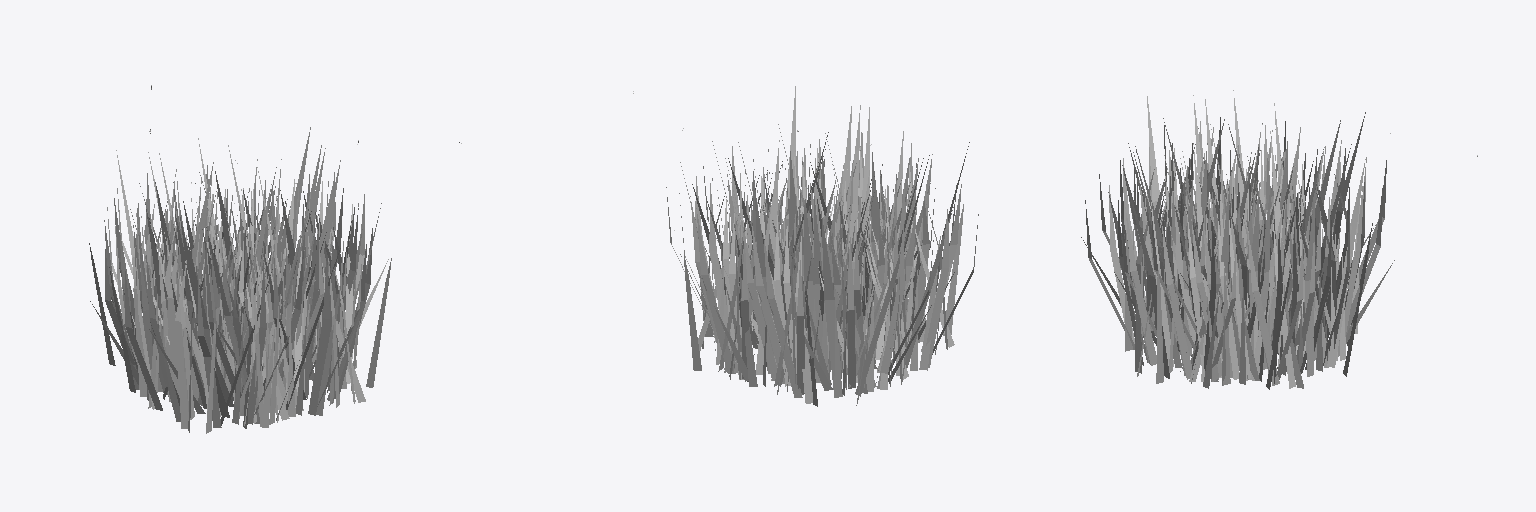
File: GrassCHICO.obj
The picture shows the model from 3 angles: view 1: azimuth 30°, elevation 25°; view 2: azimuth 150°, elevation 25°; view 3: azimuth 270°, elevation 25°; orthographic projection.
Parts seen in each view (by area): view 1: Grass2, Grass2186_Grass2208, Grass2084_Grass2106, Grass2008, Grass2055_Grass2089, Grass2029, Grass2151_Grass2173, Grass, Grass2178_Grass2200, Grass2025, Grass2152_Grass2174, Grass2107_Grass2129 (+2 smaller); view 2: Grass2, Grass2029, Grass2084_Grass2106, Grass2173_Grass2195, Grass2014, Grass2107_Grass2129, Grass, Grass2178_Grass2200, Grass2055_Grass2089, Grass2025, Grass2008, Grass2151_Grass2173 (+1 smaller); view 3: Grass2, Grass2107_Grass2129, Grass2186_Grass2208, Grass2152_Grass2174, Grass2055_Grass2089, Grass2173_Grass2195, Grass2151_Grass2173, Grass2008, Grass, Grass2178_Grass2200, Grass2084_Grass2106, Grass2025 (+1 smaller).
Part boxes in pixels (x1,y1,x2,y2): Grass2: (114, 127, 372, 433); Grass2186_Grass2208: (217, 177, 366, 424); Grass2084_Grass2106: (109, 215, 237, 419); Grass2008: (206, 194, 340, 427); Grass2055_Grass2089: (257, 167, 391, 392); Grass2029: (89, 191, 216, 371); Grass2151_Grass2173: (247, 203, 381, 407); Grass: (104, 203, 246, 400); Grass2178_Grass2200: (90, 162, 246, 408); Grass2025: (184, 216, 307, 414); Grass2152_Grass2174: (239, 190, 388, 380); Grass2107_Grass2129: (173, 165, 285, 283); Grass2: (666, 106, 969, 406); Grass2029: (793, 155, 933, 405); Grass2084_Grass2106: (837, 131, 978, 384); Grass2173_Grass2195: (679, 183, 803, 381); Grass2014: (727, 196, 847, 383); Grass2107_Grass2129: (680, 162, 818, 379); Grass: (790, 172, 924, 389); Grass2178_Grass2200: (806, 184, 940, 389); Grass2055_Grass2089: (703, 146, 835, 263); Grass2025: (817, 105, 935, 319); Grass2008: (785, 152, 917, 321); Grass2151_Grass2173: (765, 86, 882, 246); Grass2: (1099, 95, 1394, 388); Grass2107_Grass2129: (1266, 131, 1382, 376); Grass2186_Grass2208: (1085, 171, 1193, 368); Grass2152_Grass2174: (1189, 144, 1305, 389); Grass2055_Grass2089: (1114, 153, 1264, 383); Grass2173_Grass2195: (1235, 144, 1351, 368); Grass2151_Grass2173: (1118, 176, 1249, 383); Grass2008: (1081, 119, 1233, 351); Grass: (1233, 90, 1345, 263); Grass2178_Grass2200: (1180, 141, 1289, 269); Grass2084_Grass2106: (1163, 117, 1275, 247); Grass2025: (1135, 143, 1247, 333).
Bounding box in the file's own units: 3.01 × 1.74 × 3.05.